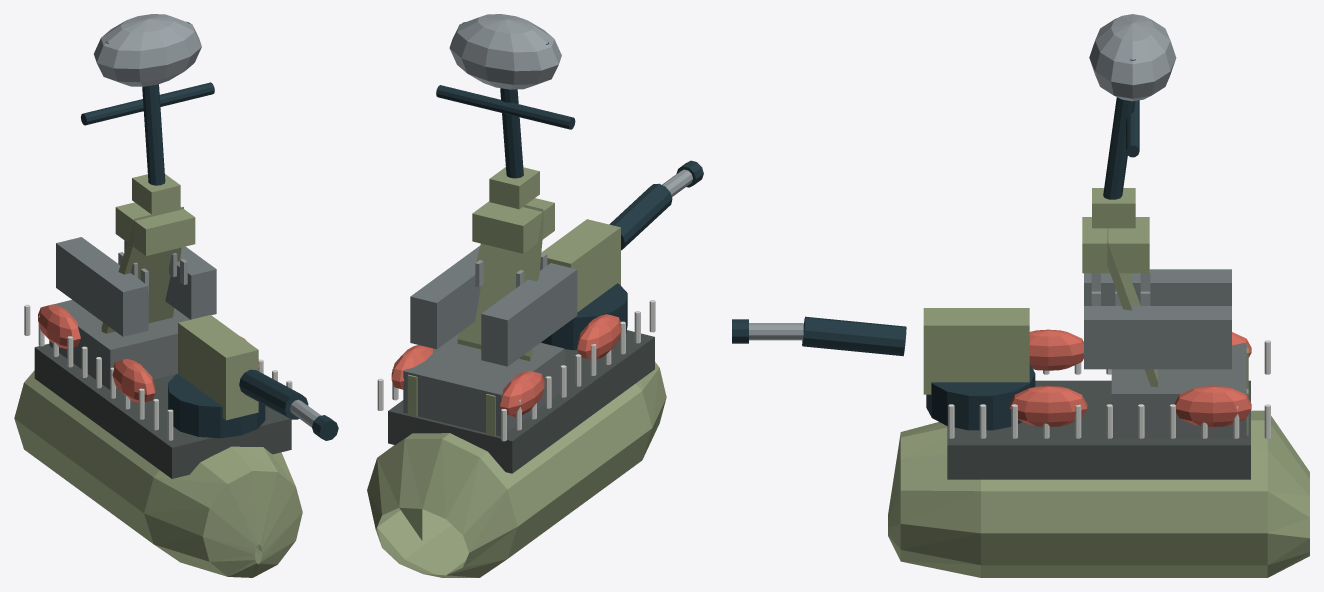
The model's file is kcr-60m-sampari.glb.
3 renders of one model, left to right at view 1: azimuth 30°, elevation 25°; view 2: azimuth 150°, elevation 25°; view 3: azimuth 270°, elevation 25°, orthographic. The views are drawn at different scales.
Parts seen in each view (by area): view 1: kcr-60m-sampari; view 2: kcr-60m-sampari; view 3: kcr-60m-sampari.
Boxes of the visible parts, x1,y1,x2,y2 form: kcr-60m-sampari: (14,14,338,577); kcr-60m-sampari: (367,14,703,577); kcr-60m-sampari: (732,14,1309,577).
Bounding box in the file's own units: 0.68 × 2.21 × 2.12.
